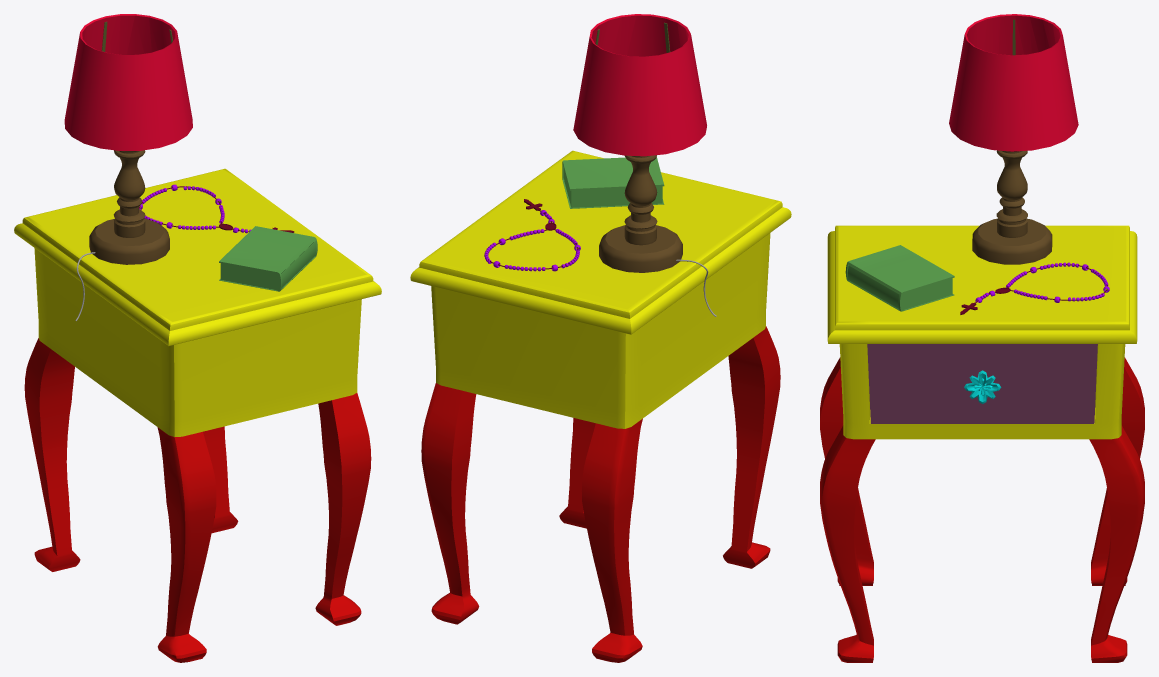
The model's file is INTE_MesasDeCabeceira (1).fbx.
The picture shows the model from 3 angles, left to right: view 1: azimuth 30°, elevation 25°; view 2: azimuth 150°, elevation 25°; view 3: azimuth 270°, elevation 25°; orthographic projection. The views are drawn at different scales.
Parts seen in each view (by area): view 1: MesinhaEstrutura, pes_mesa, Cabeca, Tronco, Biblia, bolinhas; view 2: MesinhaEstrutura, pes_mesa, Cabeca, Tronco, Biblia, bolinhas; view 3: MesinhaEstrutura, pes_mesa, gaveta, Cabeca, Tronco, Biblia, bolinhas, puxador.
Boxes of the visible parts, bbox=[...] form: MesinhaEstrutura: bbox=[14, 168, 381, 436]; pes_mesa: bbox=[24, 338, 371, 662]; Cabeca: bbox=[64, 14, 192, 150]; Tronco: bbox=[89, 150, 169, 264]; Biblia: bbox=[219, 226, 317, 291]; bolinhas: bbox=[139, 184, 251, 233]; MesinhaEstrutura: bbox=[410, 150, 791, 428]; pes_mesa: bbox=[421, 326, 780, 662]; Cabeca: bbox=[573, 14, 706, 156]; Tronco: bbox=[599, 155, 682, 272]; Biblia: bbox=[562, 157, 664, 208]; bolinhas: bbox=[484, 210, 580, 271]; MesinhaEstrutura: bbox=[827, 225, 1137, 439]; pes_mesa: bbox=[820, 357, 1144, 662]; gaveta: bbox=[867, 344, 1097, 423]; Cabeca: bbox=[949, 14, 1078, 151]; Tronco: bbox=[972, 150, 1052, 264]; Biblia: bbox=[845, 245, 954, 311]; bolinhas: bbox=[975, 262, 1109, 302]; puxador: bbox=[964, 370, 1001, 403].
Size of the model in its own units: 4.05 by 9.64 by 5.09.
